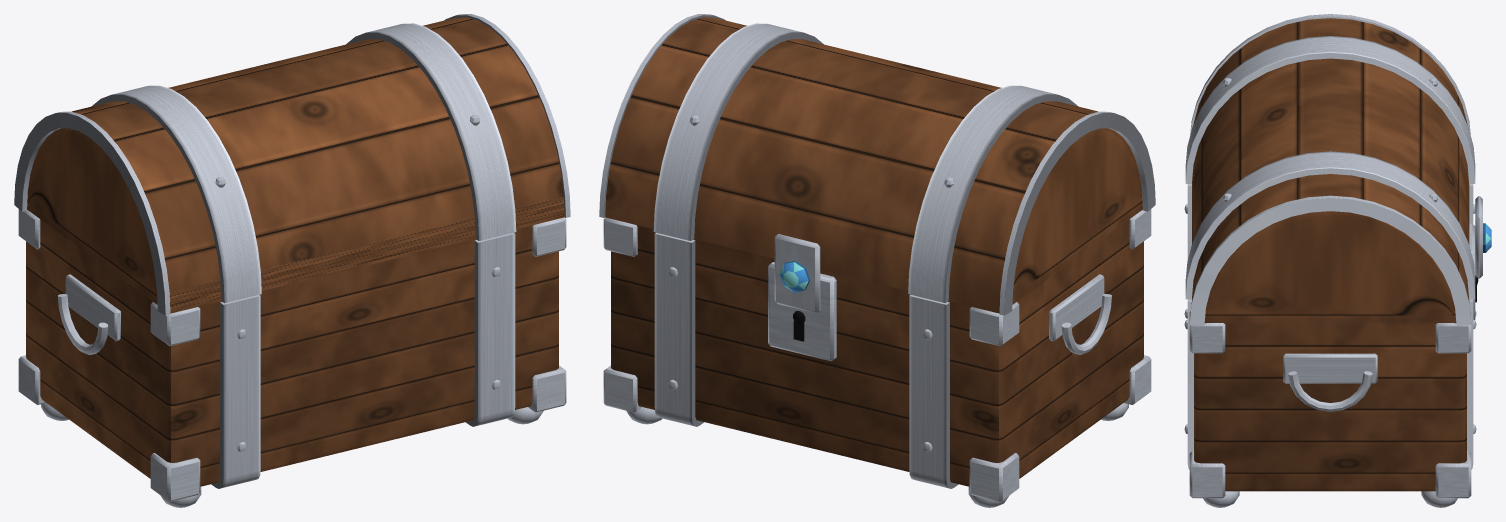
Rendered from Chest_Rare.fbx.
The picture shows the model from 3 angles, left to right: view 1: azimuth 30°, elevation 25°; view 2: azimuth 150°, elevation 25°; view 3: azimuth 270°, elevation 25°; orthographic projection. The views are drawn at different scales.
Visible parts, largest first — view 1: Lid, Base; view 2: Lid, Base; view 3: Lid, Base.
Boxes of the visible parts, bbox=[...] form: Lid: bbox=[14, 14, 570, 315]; Base: bbox=[18, 209, 566, 507]; Lid: bbox=[599, 14, 1155, 315]; Base: bbox=[603, 209, 1151, 507]; Lid: bbox=[1185, 14, 1491, 326]; Base: bbox=[1184, 184, 1478, 507].
Bounding box in the file's own units: 4.37 × 3.42 × 2.92.
1 material, 1 textured.
